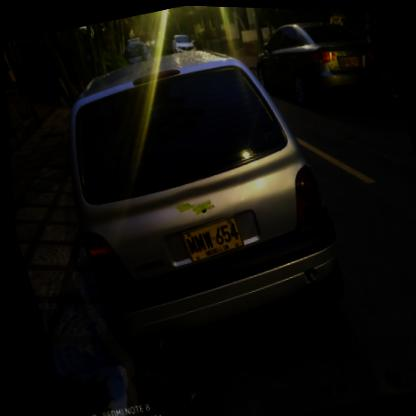placa: (170, 209, 247, 268)
